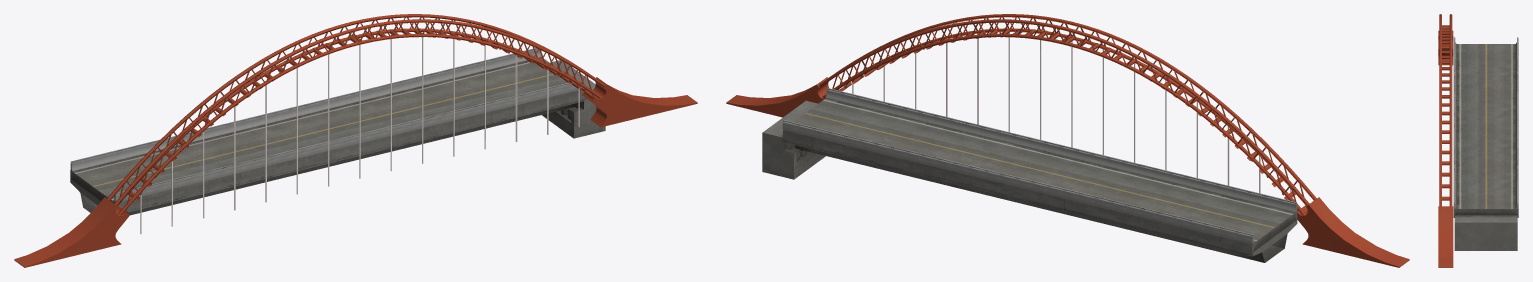
File: Brige_over_Sea_01.fbx
3 renders of one model, left to right at view 1: azimuth 30°, elevation 25°; view 2: azimuth 150°, elevation 25°; view 3: azimuth 270°, elevation 25°, orthographic. The views are drawn at different scales.
Visible parts, largest first — view 1: polySurface724, Arch_01, polySurface713; view 2: polySurface724, Arch_01, polySurface713; view 3: polySurface724, Arch_01, polySurface713.
Part boxes in pixels (<box>): polySurface724: <box>70,48,585,215</box>; Arch_01: <box>14,14,697,267</box>; polySurface713: <box>542,60,605,138</box>; polySurface724: <box>782,88,1297,262</box>; Arch_01: <box>726,14,1409,267</box>; polySurface713: <box>762,100,825,179</box>; polySurface724: <box>1453,37,1518,217</box>; Arch_01: <box>1438,14,1453,267</box>; polySurface713: <box>1454,215,1517,250</box>.
Bounding box in the file's own units: 8603 × 2120 × 1237.
Materials: 2 (2 with a texture image).
